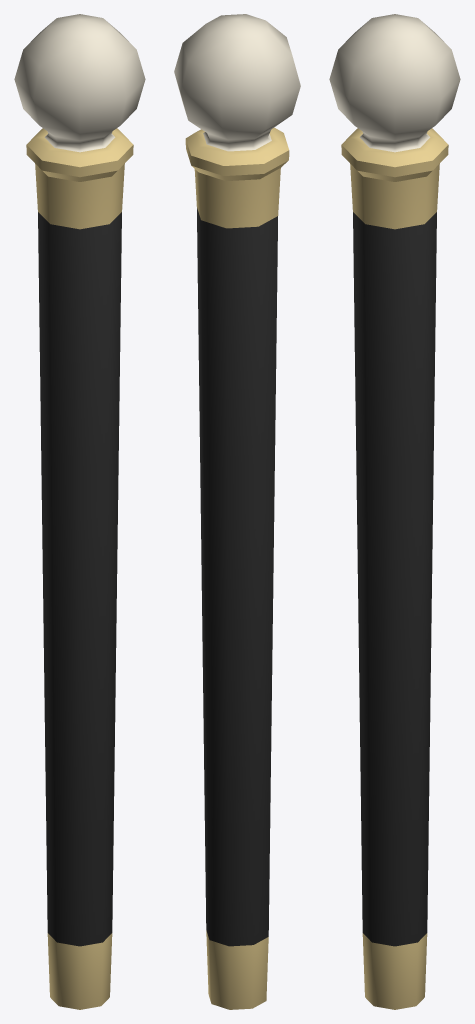
File: MagicWand.fbx
3 views of the same model, side by side, from view 1: azimuth 90°, elevation 25°; view 2: azimuth 210°, elevation 25°; view 3: azimuth 270°, elevation 25° (orthographic).
Parts seen in each view (by area): view 1: HandAcc_9; view 2: HandAcc_9; view 3: HandAcc_9.
Part boxes in pixels (bbox=[...]): HandAcc_9: bbox=[14, 14, 145, 1009]; HandAcc_9: bbox=[174, 14, 300, 1009]; HandAcc_9: bbox=[329, 14, 460, 1009].
Size of the model in its own units: 9.99 by 82.14 by 9.99.
1 material, 1 textured.
